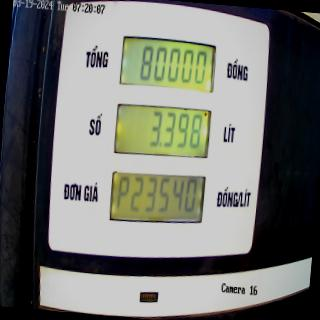screen: (106, 32, 220, 231)
